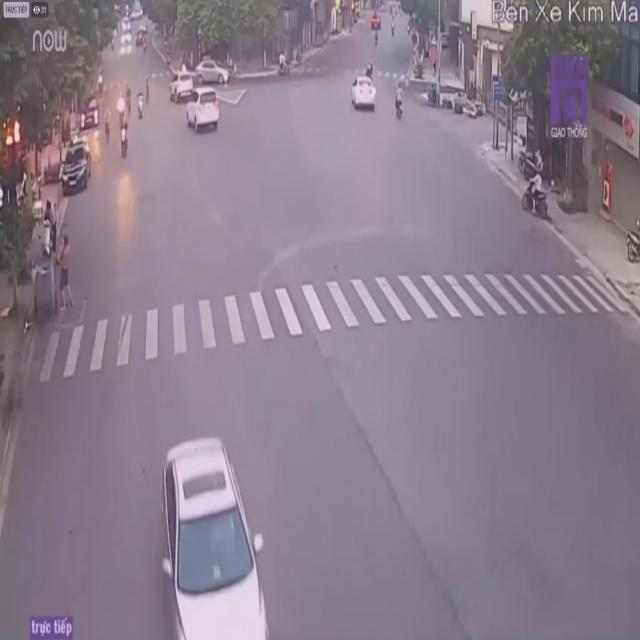car: (157, 433, 270, 640), (186, 83, 222, 138), (60, 140, 90, 197), (350, 74, 376, 112), (171, 71, 192, 101)
motorbike: (521, 174, 547, 216), (394, 81, 406, 123)
